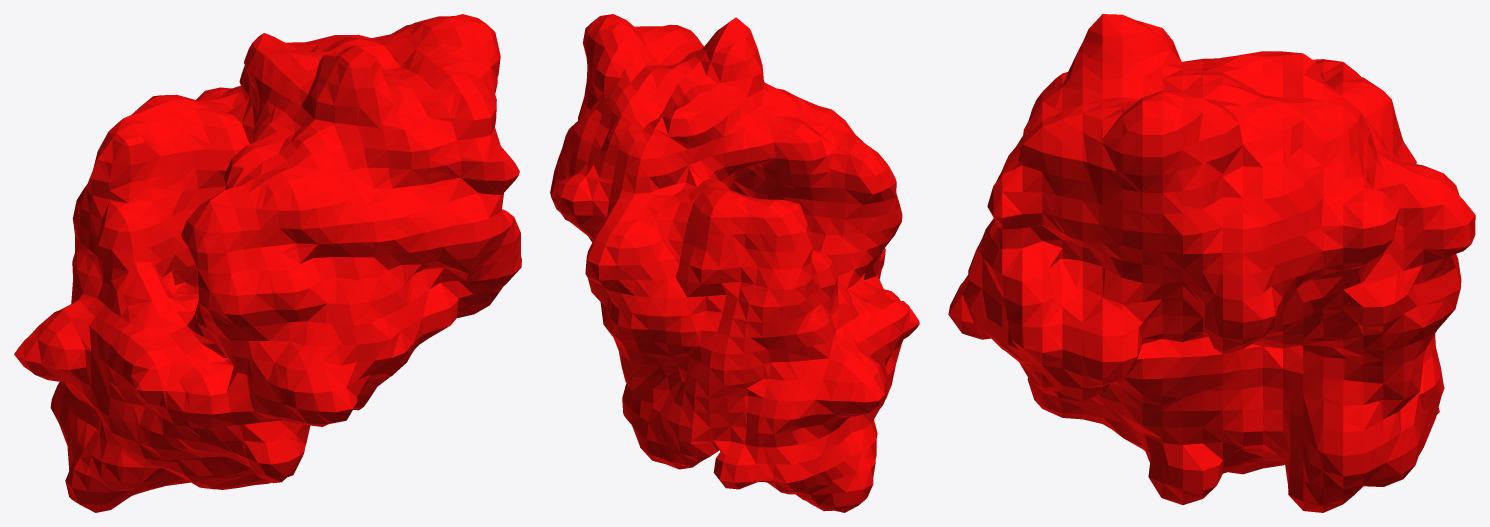
File: ppk_coarse.dae
3 renders of one model, left to right at view 1: azimuth 30°, elevation 25°; view 2: azimuth 150°, elevation 25°; view 3: azimuth 270°, elevation 25°, orthographic. The views are drawn at different scales.
Parts seen in each view (by area): view 1: ppk; view 2: ppk; view 3: ppk.
Part boxes in pixels (bbox=[...]): ppk: bbox=[14, 14, 521, 512]; ppk: bbox=[550, 14, 919, 512]; ppk: bbox=[948, 14, 1475, 512].
Size of the model in its own units: 98.98 by 108 by 93.66.
